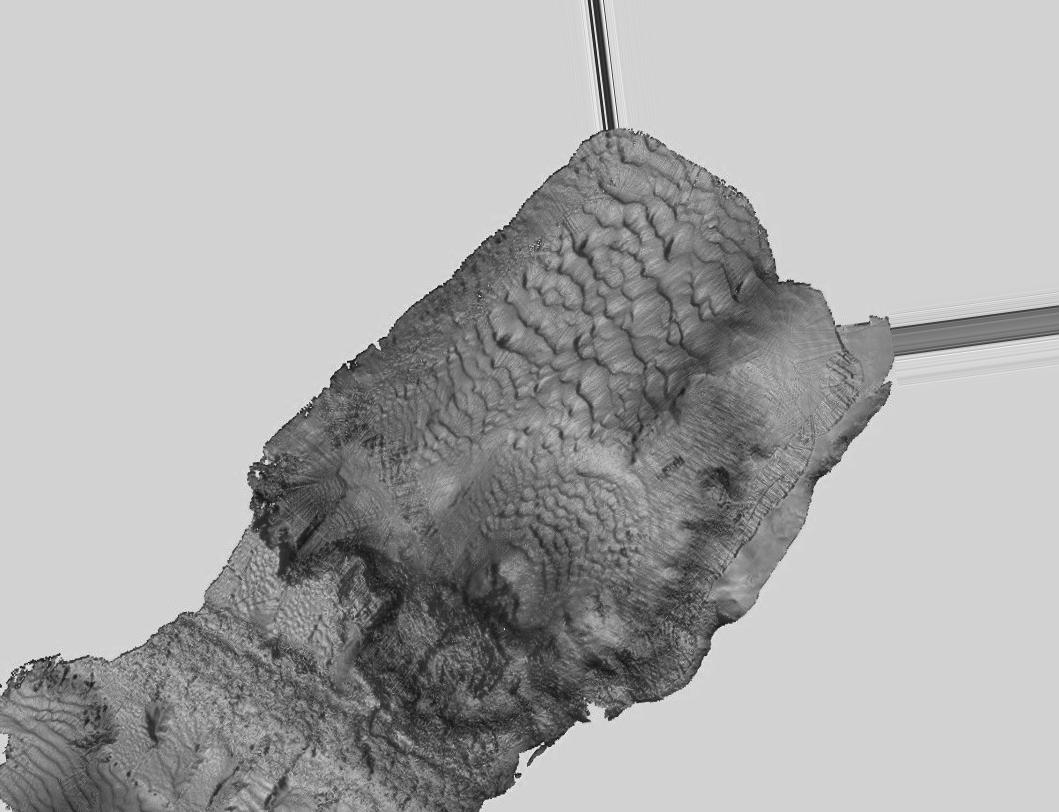Dune: (553, 209, 696, 394), (459, 306, 660, 408), (11, 705, 75, 800)
Scarp: (501, 659, 801, 762), (695, 465, 822, 691)
Scour pit: (444, 531, 571, 657)
Submerged dike: (165, 612, 334, 748), (286, 717, 500, 812)
